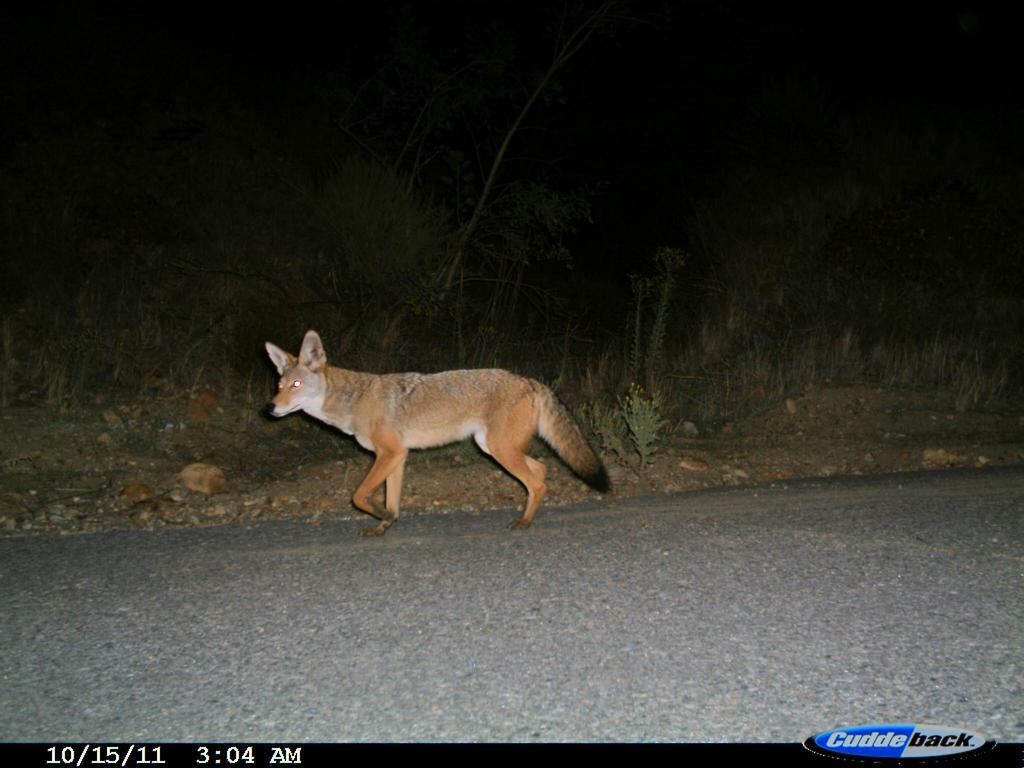coyote: (255, 322, 616, 539)
